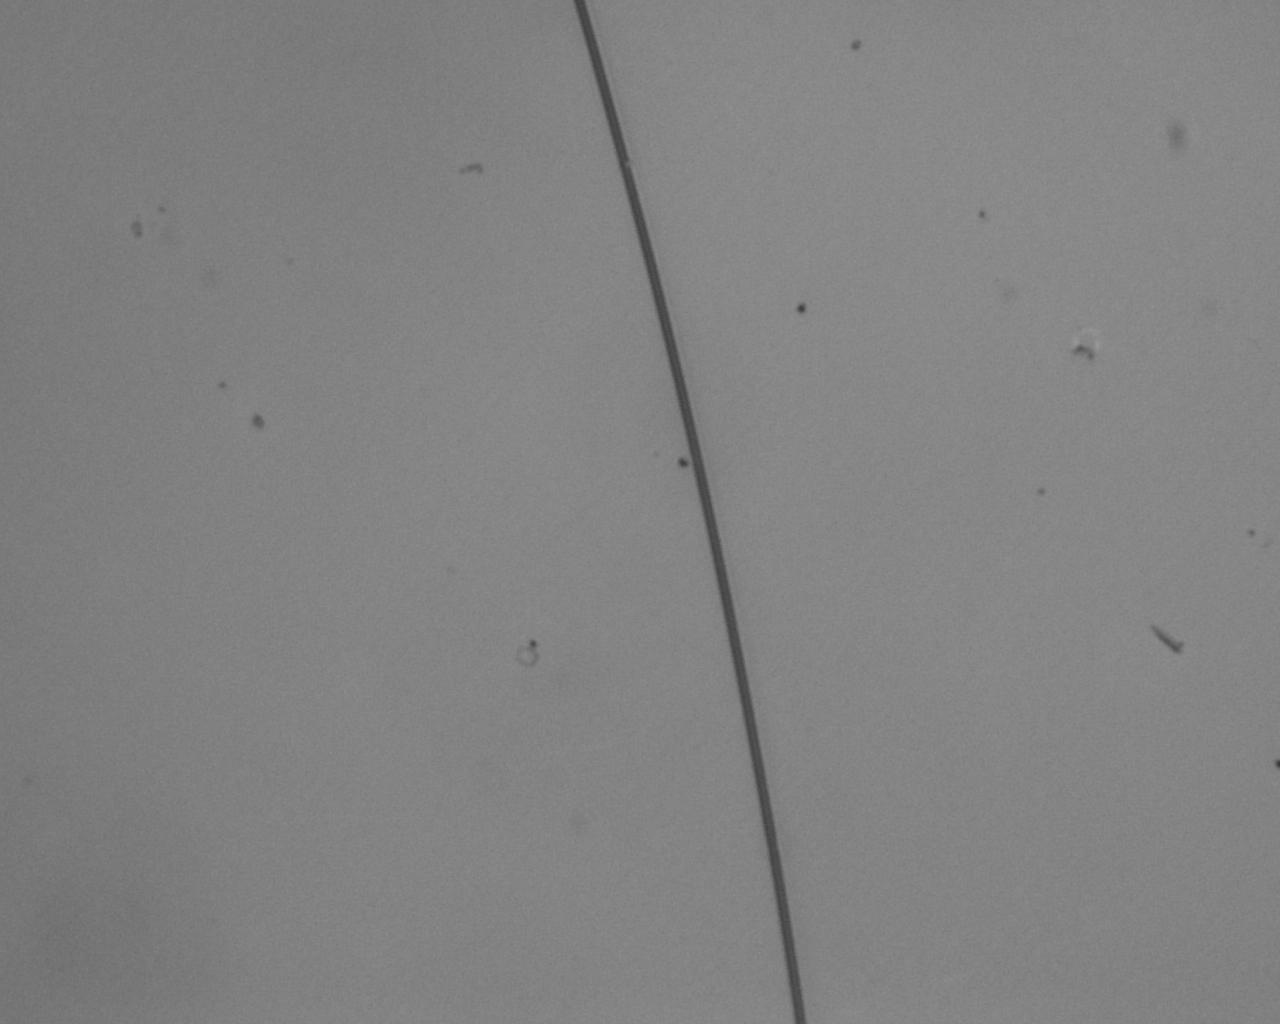fiber: (573, 0, 810, 1024)
